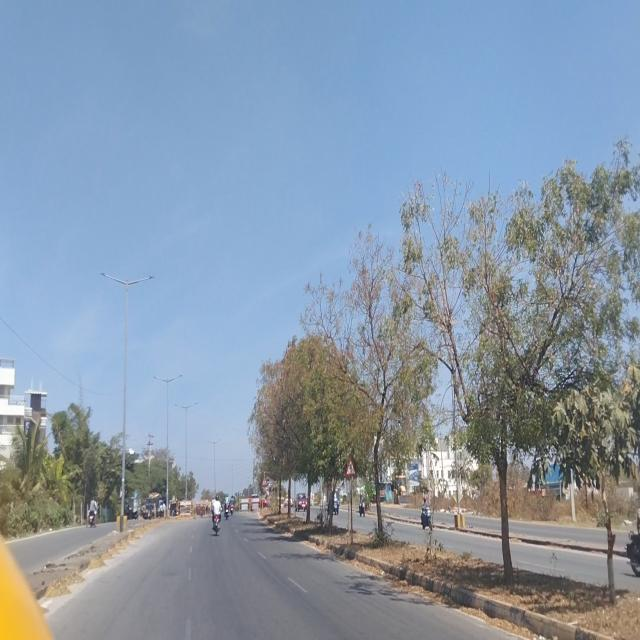bien_cam: (345, 458, 356, 476)
